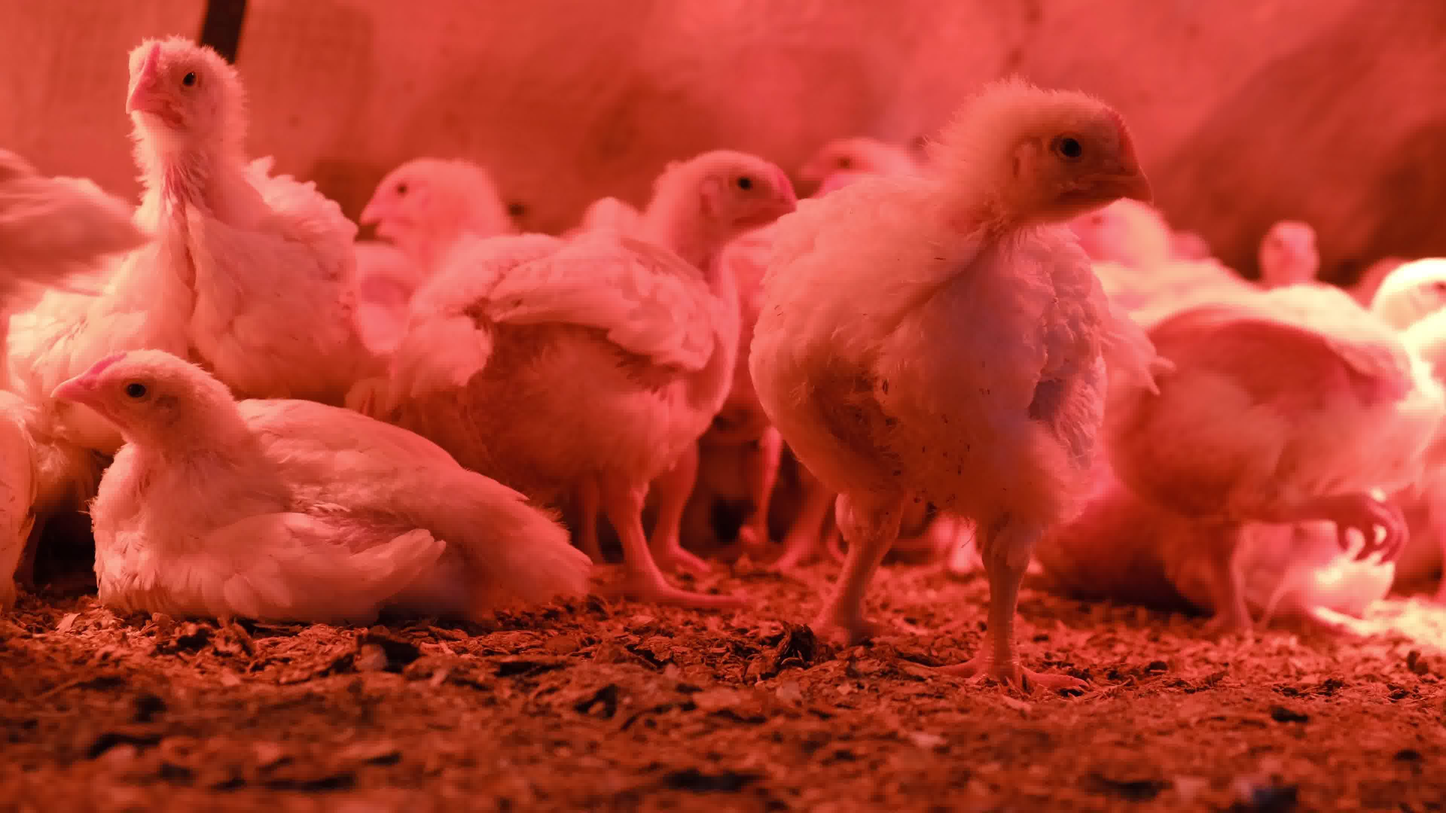AbNormal: (55, 347, 594, 617), (1158, 488, 1411, 628)
Normal: (748, 79, 1153, 681), (378, 155, 804, 601), (4, 32, 362, 398), (1114, 253, 1446, 632), (364, 162, 524, 336), (1069, 198, 1171, 282), (799, 132, 915, 203), (1241, 221, 1324, 298)
